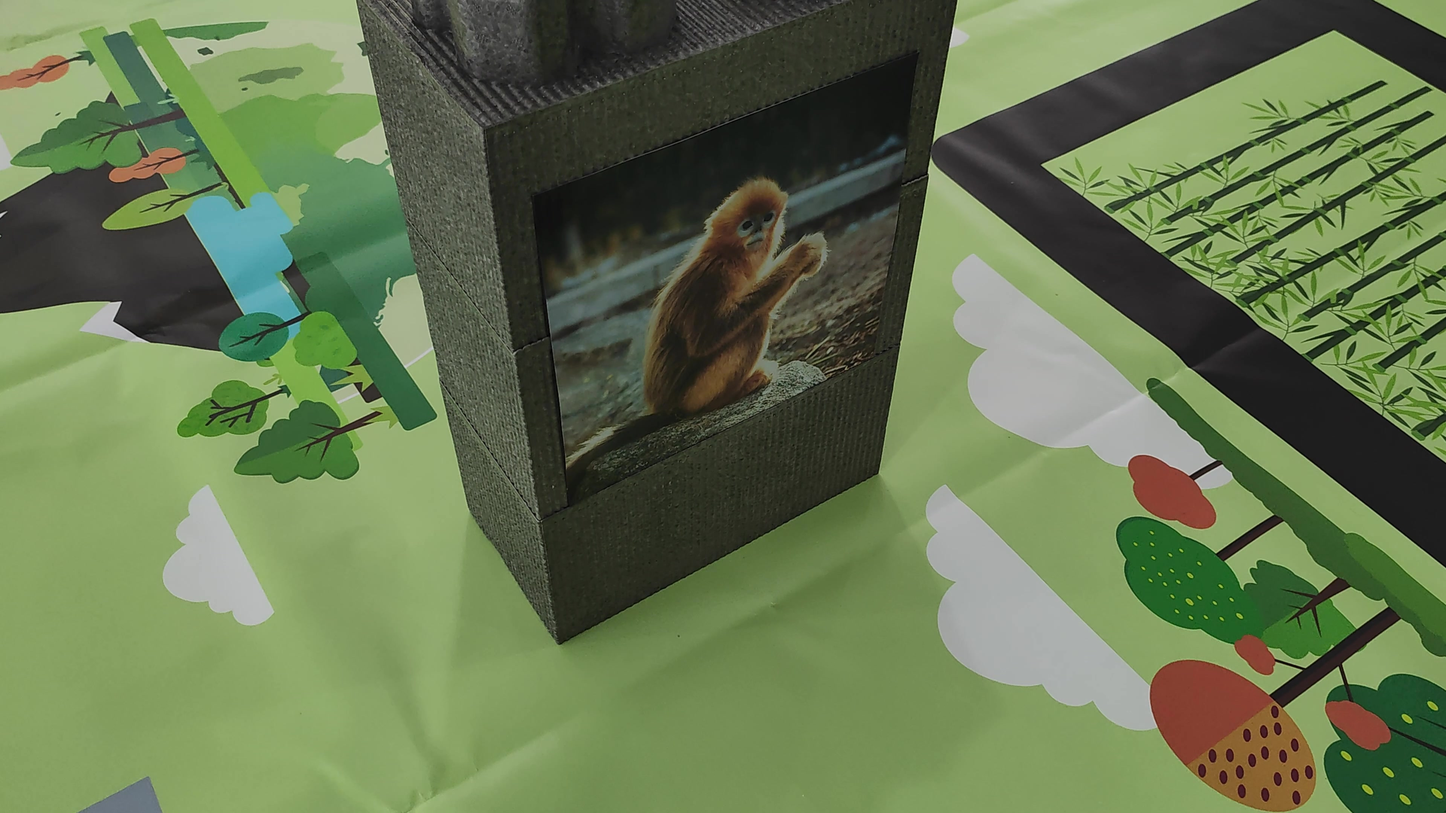monkey: (580, 134, 861, 451)
